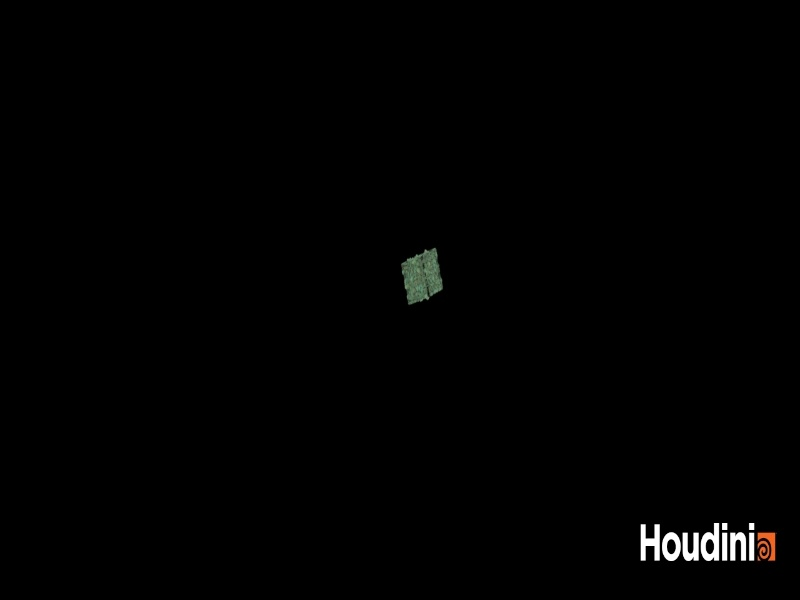waste: (393, 236, 450, 312)
